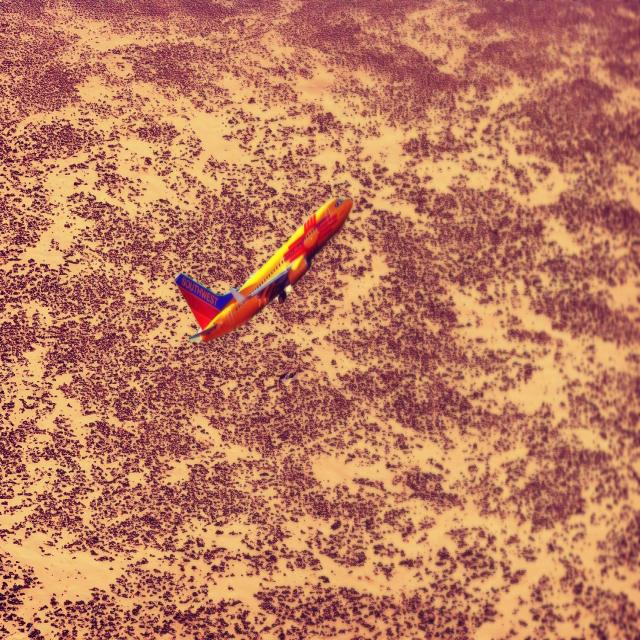airplane: (174, 194, 353, 343)
